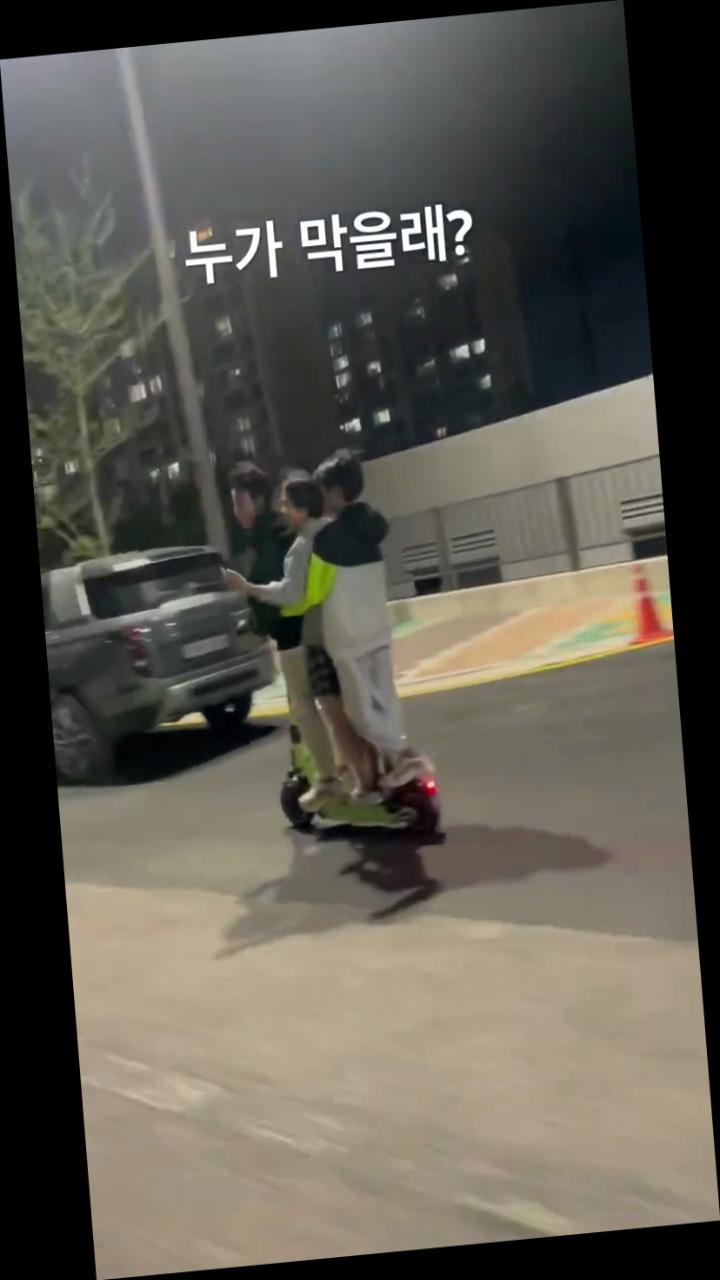multiple: (211, 440, 457, 867)
